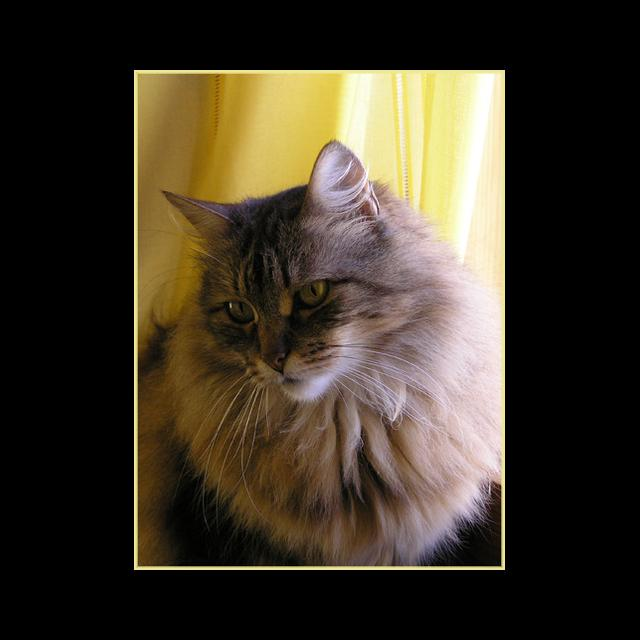animals: (167, 141, 376, 371)
